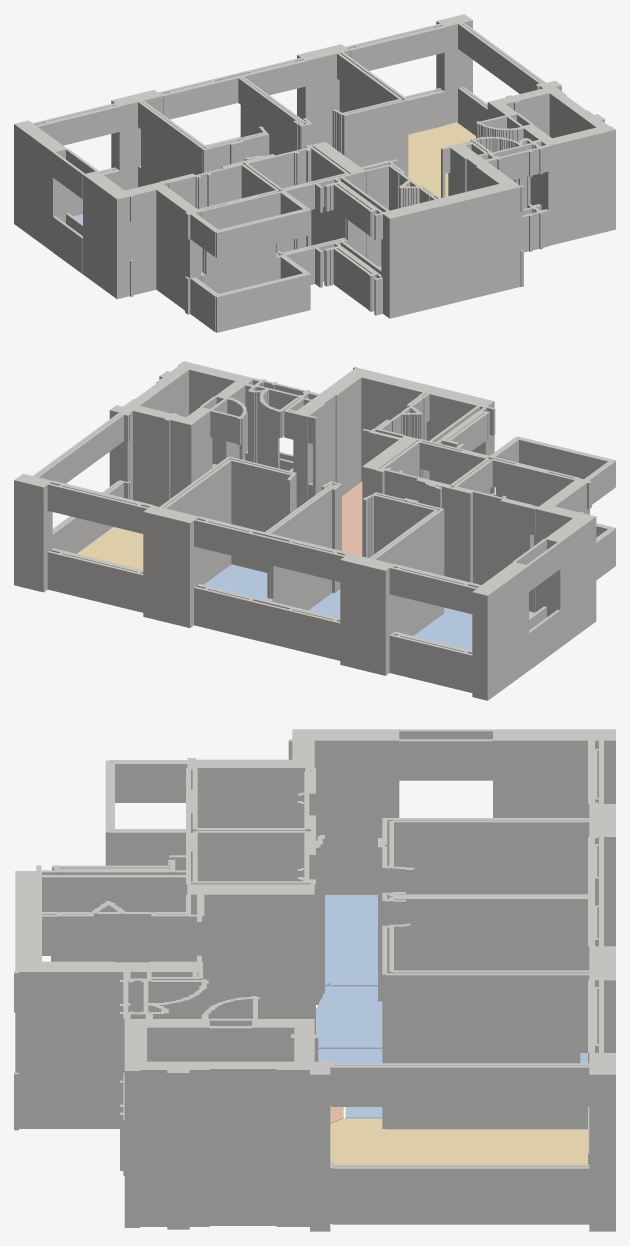
3 views of the same model, one above another, from view 1: azimuth 30°, elevation 25°; view 2: azimuth 150°, elevation 25°; view 3: azimuth 270°, elevation 25° (orthographic). The views are drawn at different scales.
Visible parts, largest first — view 1: walls, room:living:4; view 2: walls, room:living:4, room:bedroom:0, room:bedroom:3, room:kitchen:9, room:bedroom:2; view 3: walls, room:living:4, room:bedroom:0, room:bedroom:2, room:bedroom:3.
Part boxes in pixels (<box>): walls: <box>14,14,615,332</box>; room:living:4: <box>408,122,475,197</box>; walls: <box>14,361,615,700</box>; room:living:4: <box>77,527,143,569</box>; room:bedroom:0: <box>414,607,534,650</box>; room:bedroom:3: <box>204,564,267,599</box>; room:kitchen:9: <box>342,482,362,556</box>; room:bedroom:2: <box>309,589,340,617</box>; walls: <box>14,729,615,1231</box>; room:living:4: <box>330,1118,587,1164</box>; room:bedroom:0: <box>325,895,377,986</box>; room:bedroom:2: <box>316,986,382,1048</box>; room:bedroom:3: <box>318,1048,587,1118</box>.
Size of the model in its own units: 13.22 by 2.8 by 9.73.
